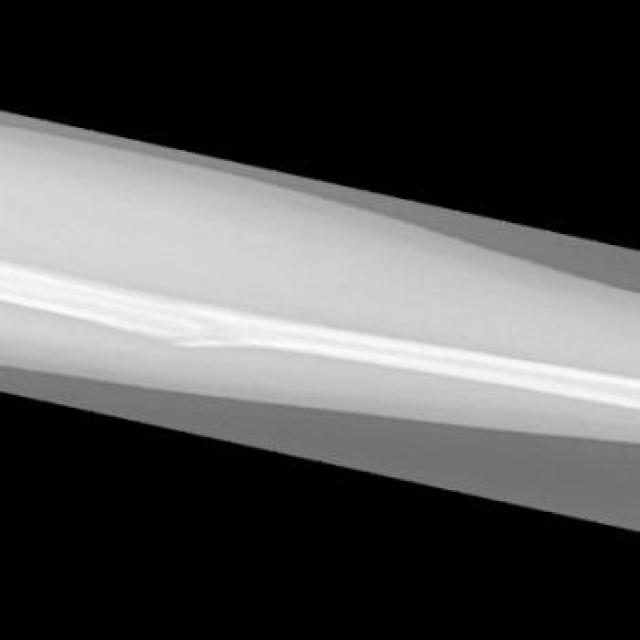Fracture: (145, 307, 243, 356)
